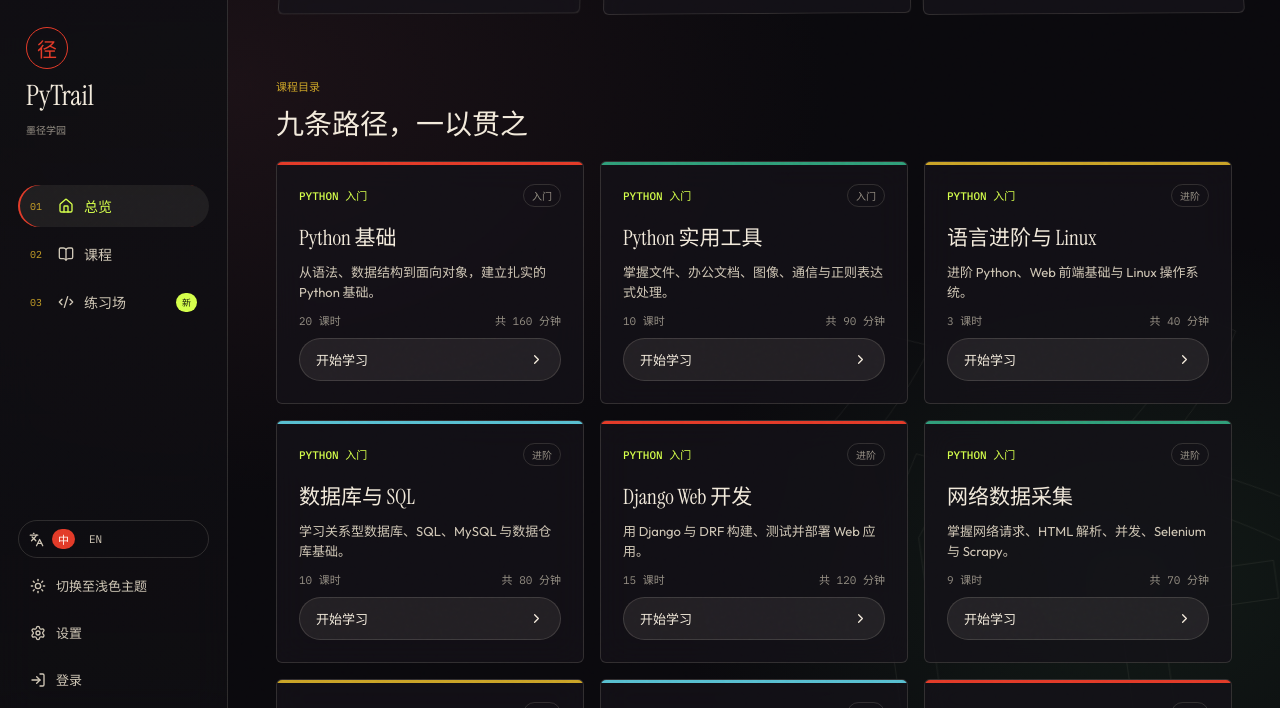
Test case: on-demand course and lesson workflow › renders the no-exercise state for a lesson without exercises
This screenshot has width=1280, height=708.
(page scrolled)
Click the button "开始学习" below "掌握文件、办公文档、图像、通信与正则表达式处理。". click: [666, 360]
box: x1=623 y1=338 x2=885 y2=381
(page scrolled)
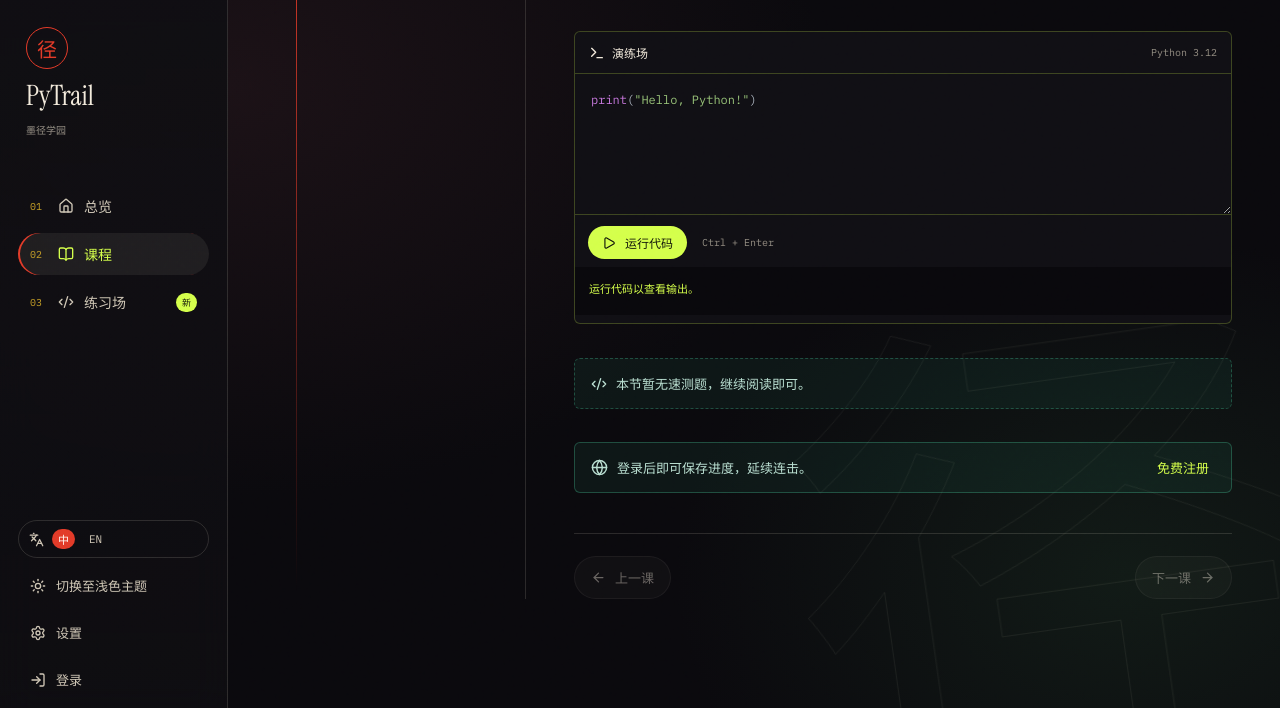
Check: the text "本节暂无速测题，继续阅读即可。" is shown, box x1=616 y1=374 x2=811 y2=393
